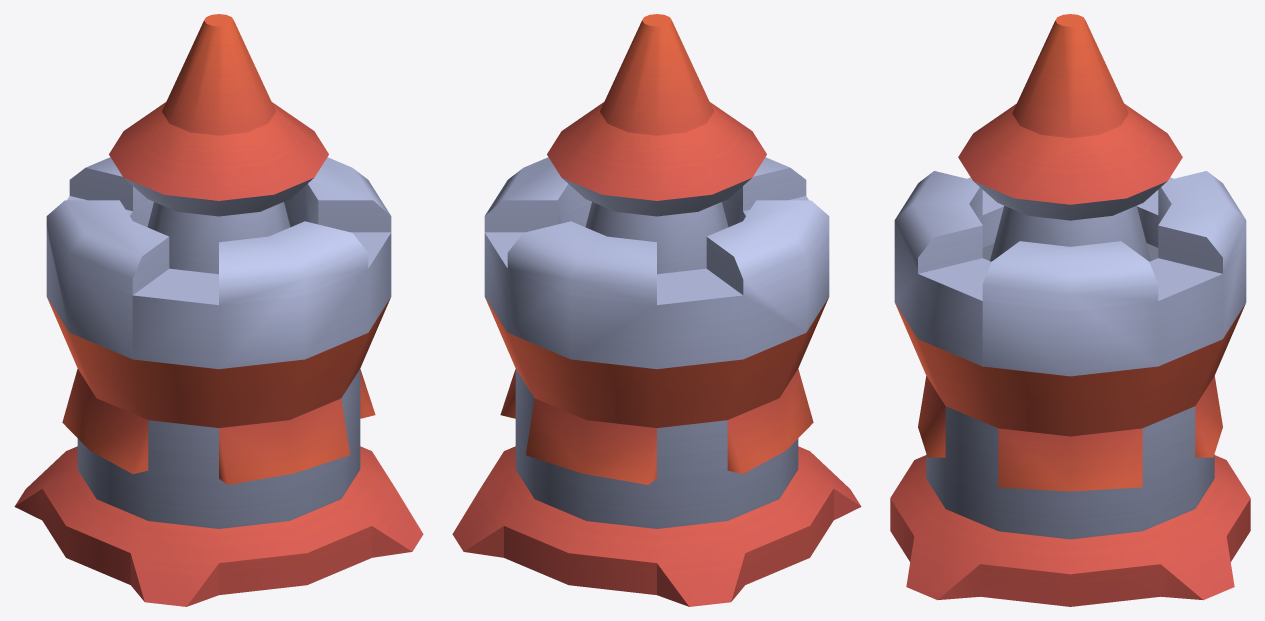
The model's file is tower-round-build-e.gltf.
3 renders of one model, left to right at view 1: azimuth 30°, elevation 25°; view 2: azimuth 150°, elevation 25°; view 3: azimuth 270°, elevation 25°, orthographic. The views are drawn at different scales.
Parts seen in each view (by area): view 1: tower-round-build-e; view 2: tower-round-build-e; view 3: tower-round-build-e.
Part boxes in pixels (x1,y1,x2,y2): tower-round-build-e: (14, 14, 423, 606); tower-round-build-e: (452, 14, 861, 606); tower-round-build-e: (890, 14, 1250, 606).
Size of the model in its own units: 1 by 1.56 by 1.
Materials: 1 (1 with a texture image).
